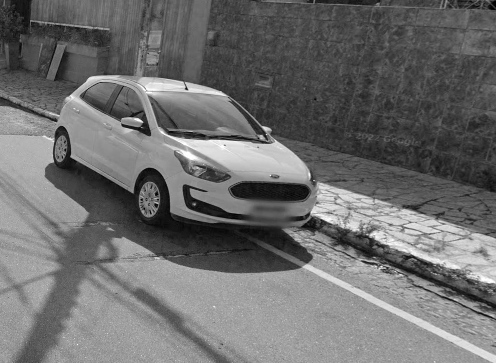car: (50, 64, 322, 237)
